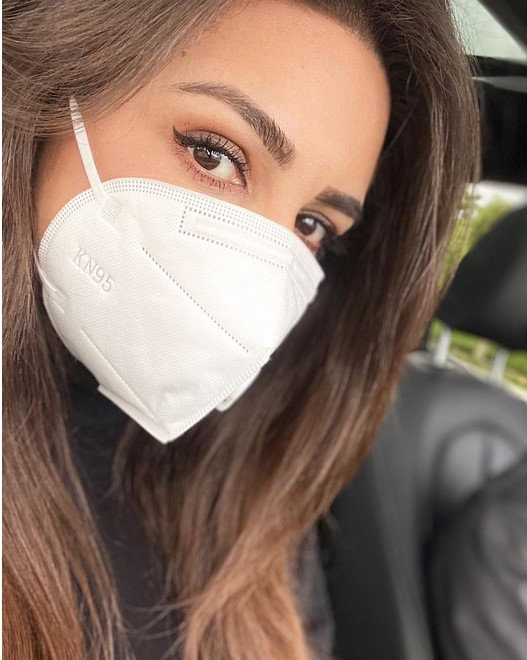face_with_mask: (0, 0, 404, 451)
